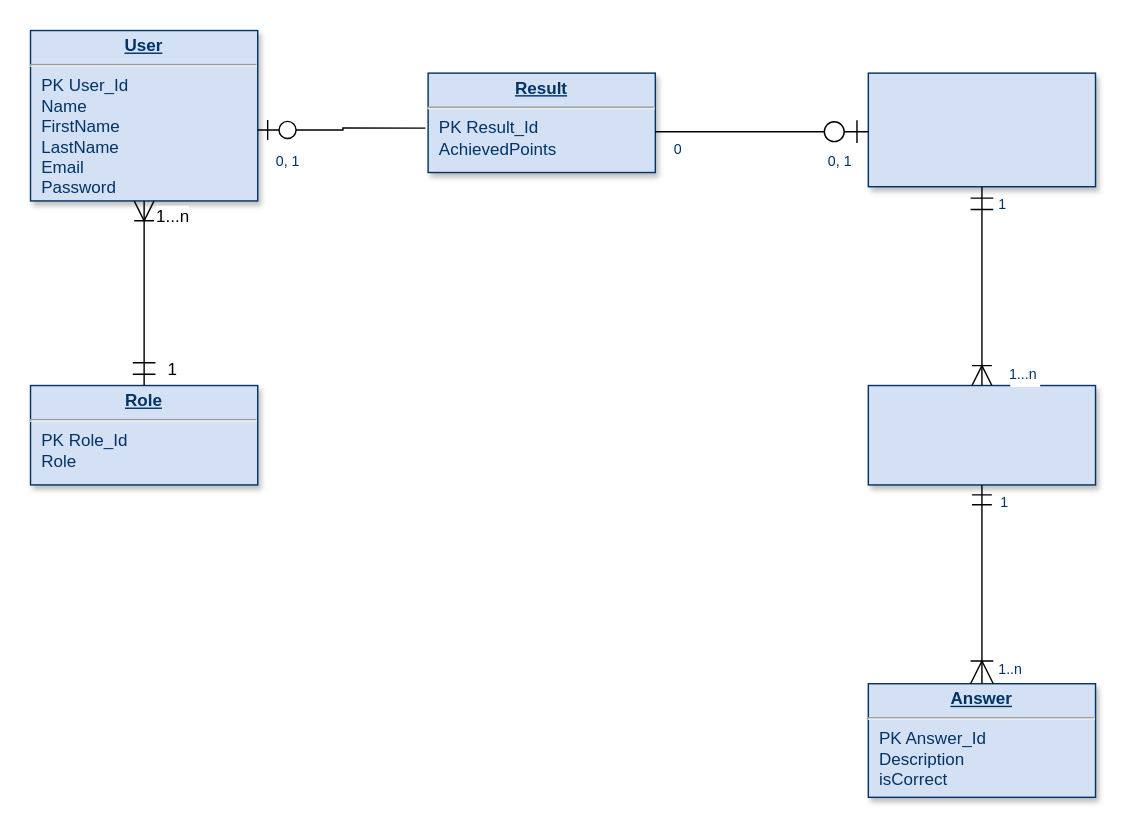
The diagram is 1129 pixels wide and 832 high, and some of its shapes have lost their labels. Here are the shapes that lost their labels. From the top down, the centre of each, then its label:
the point at 982,131: Quiz PK Quiz_Id Title Description
the point at 982,436: Question PK Question_Id Description
